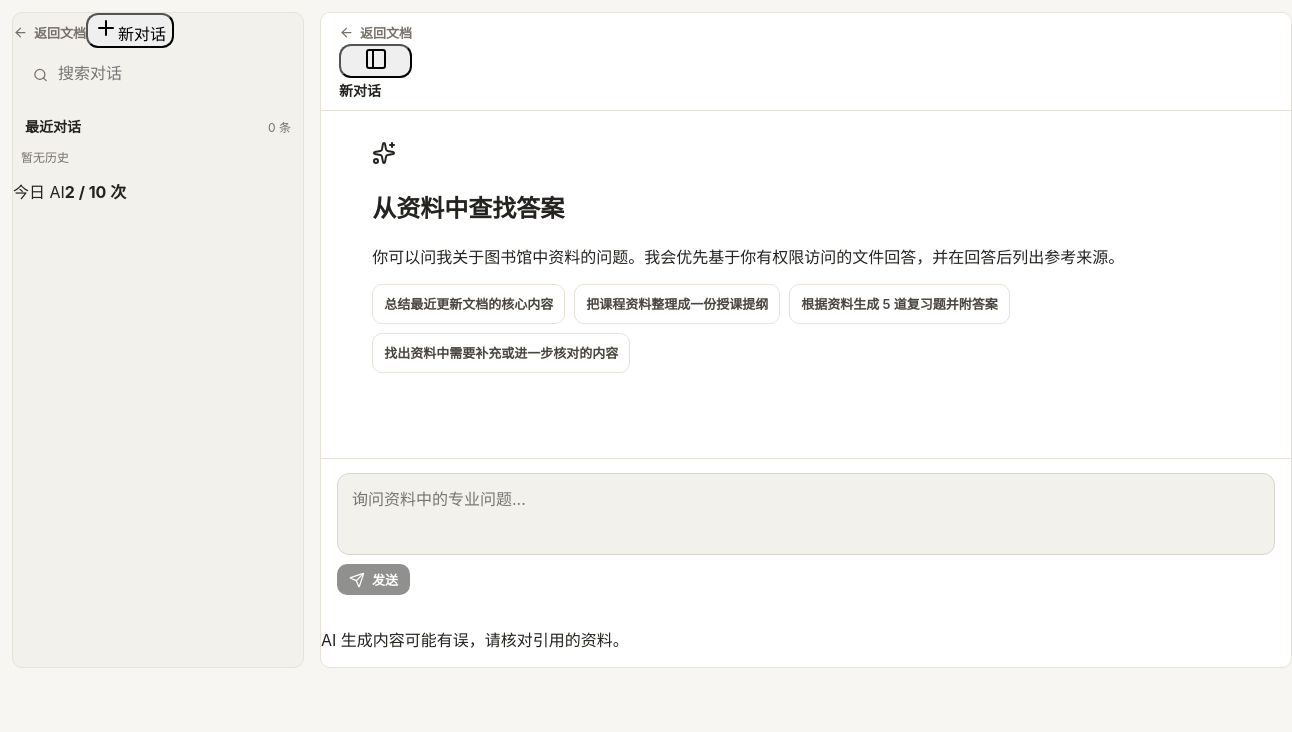
Scenario: AiAssistantClient keyboard input › sends the question when Enter is pressed
The width and height of the screenshot is (1292, 732).
Type "测试默认发送" into the text box with placeholder "询问资料中的专业问题...".
click(806, 514); type("测试默认发送")  # box [337, 473, 1275, 555]
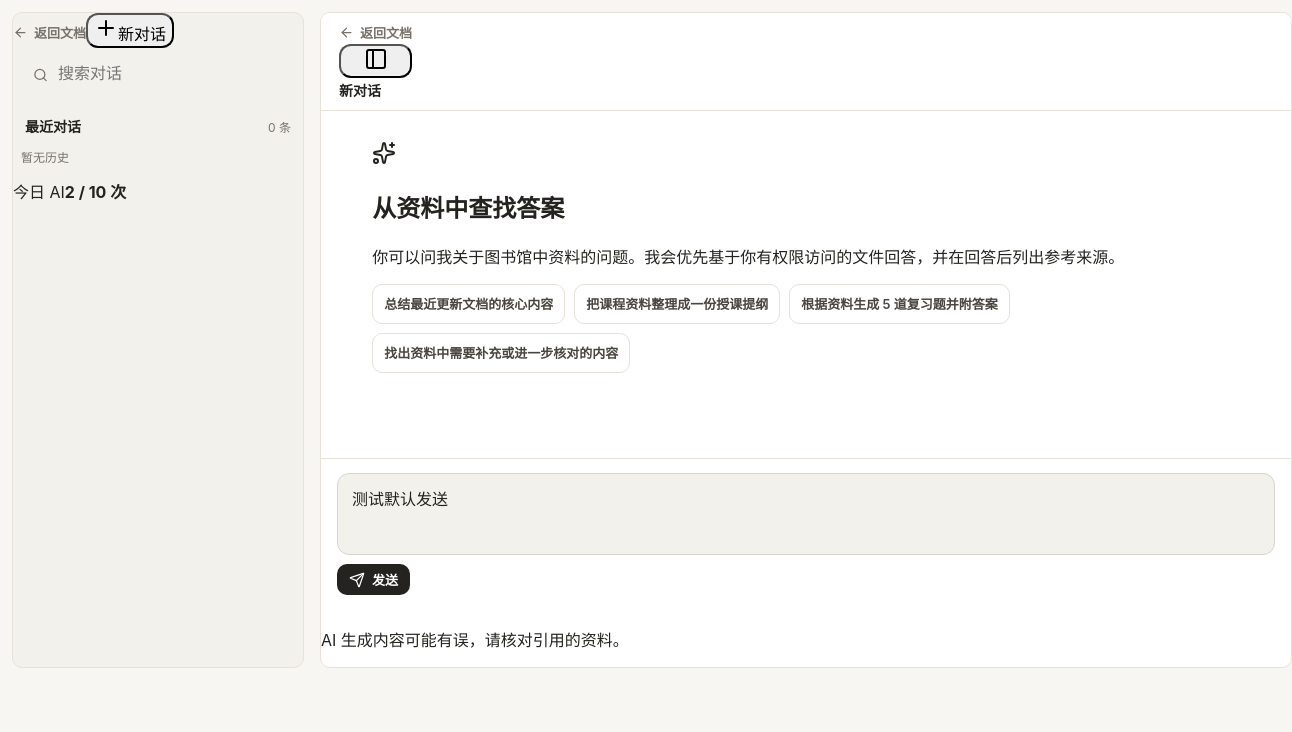
Press Enter in the text box with placeholder "询问资料中的专业问题...", box [337, 473, 1275, 555]
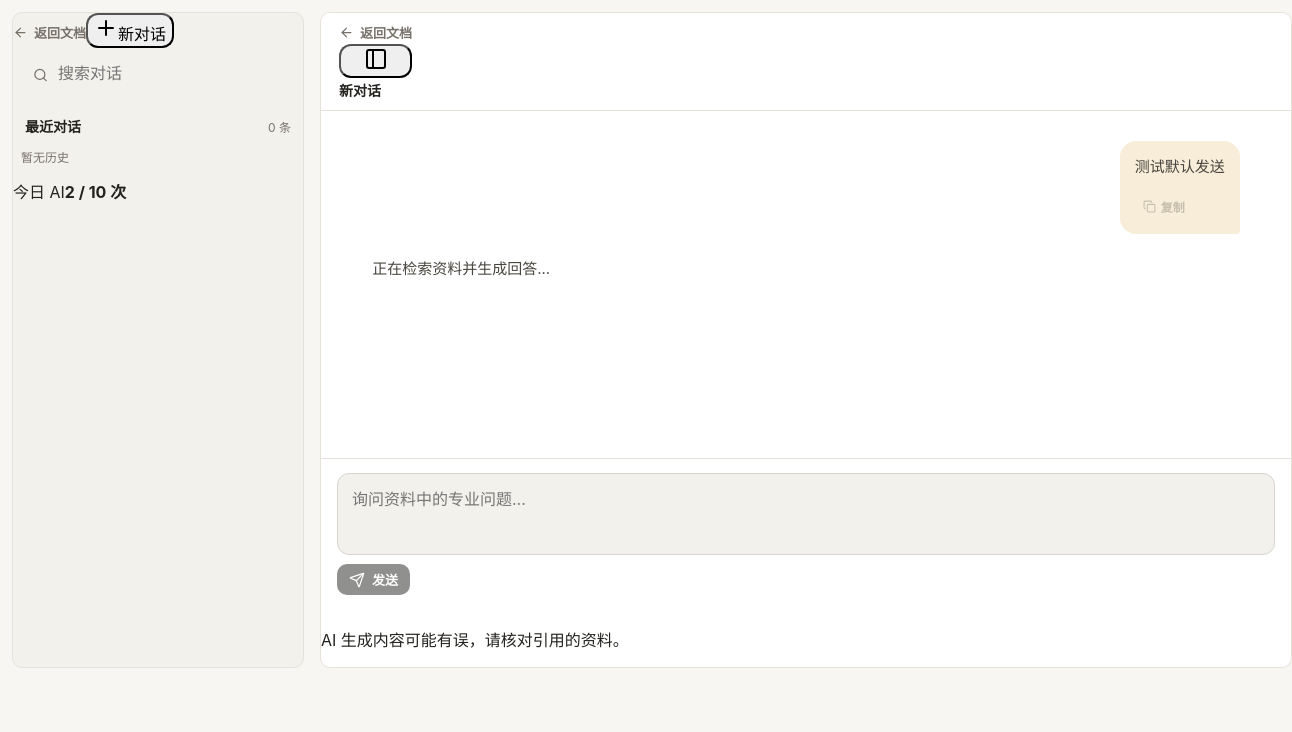
Now the text box with placeholder "询问资料中的专业问题..." is empty, box [337, 473, 1275, 555]
Now the text "测试默认发送" is shown, box [1135, 154, 1225, 180]
